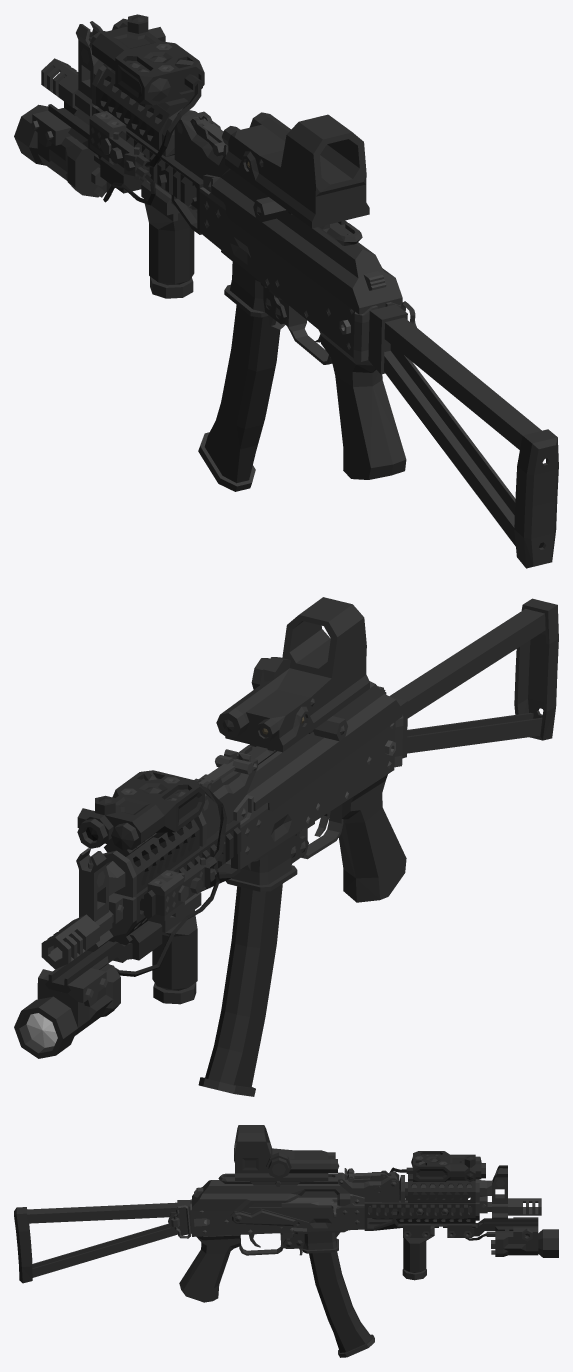
File: vityaz.glb
The picture shows the model from 3 angles, top to bottom: view 1: azimuth 30°, elevation 25°; view 2: azimuth 150°, elevation 25°; view 3: azimuth 270°, elevation 25°; orthographic projection. The views are drawn at different scales.
Parts seen in each view (by area): view 1: pp19_foldingstock_14, zenit_b9m_0, zenit_1p87_4, pp19_dust_cover_18, pp19_magwell.001_17, pp19_reciever_6, pp19_pgrip_5, zenit_rk0_2, pp19_barrelassembly_12, zenit_b19_1, zenit_b10_3, pp19_rsb_13 (+1 smaller); view 2: zenit_b9m_0, zenit_1p87_4, pp19_foldingstock_14, pp19_magwell.001_17, pp19_reciever_6, pp19_dust_cover_18, pp19_barrelassembly_12, pp19_pgrip_5, zenit_rk0_2, zenit_b10_3, zenit_b19_1, pp19_magwell_16 (+3 smaller); view 3: pp19_foldingstock_14, zenit_b9m_0, zenit_1p87_4, pp19_reciever_6, pp19_dust_cover_18, pp19_magwell.001_17, zenit_b10_3, pp19_barrelassembly_12, pp19_pgrip_5, pp19_rsb_13, zenit_rk0_2, zenit_b19_1 (+3 smaller).
Boxes of the visible parts, x1=… form: pp19_foldingstock_14: x1=353, y1=301, x2=558, y2=568; zenit_b9m_0: x1=14, y1=14, x2=204, y2=205; zenit_1p87_4: x1=222, y1=112, x2=369, y2=228; pp19_dust_cover_18: x1=211, y1=169, x2=402, y2=314; pp19_magwell.001_17: x1=198, y1=305, x2=280, y2=491; pp19_reciever_6: x1=199, y1=191, x2=401, y2=364; pp19_pgrip_5: x1=319, y1=330, x2=406, y2=479; zenit_rk0_2: x1=141, y1=180, x2=197, y2=298; pp19_barrelassembly_12: x1=41, y1=21, x2=202, y2=179; zenit_b19_1: x1=96, y1=64, x2=189, y2=150; zenit_b10_3: x1=96, y1=108, x2=203, y2=234; pp19_rsb_13: x1=174, y1=111, x2=230, y2=179; zenit_b9m_0: x1=14, y1=770, x2=226, y2=1058; zenit_1p87_4: x1=216, y1=597, x2=369, y2=752; pp19_foldingstock_14: x1=389, y1=598, x2=558, y2=758; pp19_magwell.001_17: x1=198, y1=884, x2=282, y2=1096; pp19_reciever_6: x1=225, y1=721, x2=395, y2=869; pp19_dust_cover_18: x1=237, y1=681, x2=402, y2=811; pp19_barrelassembly_12: x1=41, y1=811, x2=227, y2=969; pp19_pgrip_5: x1=338, y1=774, x2=406, y2=902; zenit_rk0_2: x1=152, y1=892, x2=201, y2=1004; zenit_b10_3: x1=109, y1=820, x2=241, y2=944; zenit_b19_1: x1=104, y1=819, x2=199, y2=893; pp19_magwell_16: x1=225, y1=831, x2=308, y2=891; pp19_foldingstock_14: x1=14, y1=1200, x2=191, y2=1283; zenit_b9m_0: x1=390, y1=1151, x2=558, y2=1257; zenit_1p87_4: x1=234, y1=1125, x2=339, y2=1186; pp19_reciever_6: x1=190, y1=1203, x2=364, y2=1255; pp19_dust_cover_18: x1=192, y1=1173, x2=350, y2=1211; pp19_magwell.001_17: x1=309, y1=1251, x2=374, y2=1357; zenit_b10_3: x1=364, y1=1195, x2=475, y2=1230; pp19_barrelassembly_12: x1=365, y1=1165, x2=541, y2=1220; pp19_pgrip_5: x1=179, y1=1235, x2=240, y2=1302; pp19_rsb_13: x1=338, y1=1170, x2=399, y2=1213; zenit_rk0_2: x1=402, y1=1223, x2=434, y2=1280; zenit_b19_1: x1=408, y1=1174, x2=475, y2=1202.
Bounding box in the file's own units: 0.4125 × 1.8 × 3.92.
Materials: 1 (1 with a texture image).
